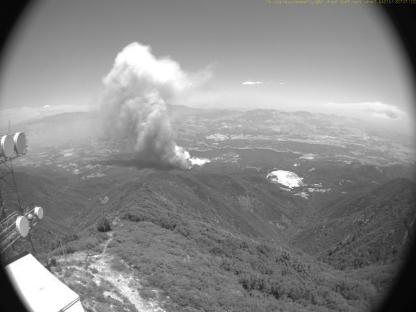smoke: (84, 40, 216, 168)
